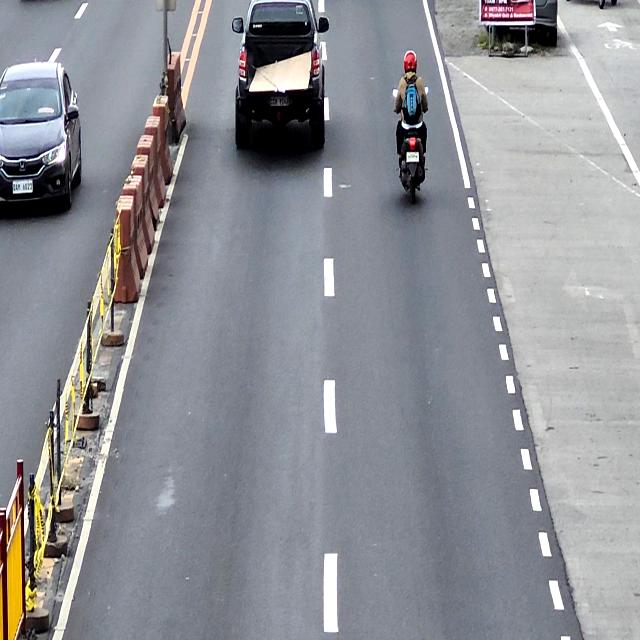Car: (232, 0, 329, 150)
License-Plate: (269, 94, 290, 108), (406, 152, 419, 163)
Motorcycle: (393, 86, 428, 201)
